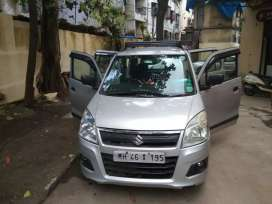license_plate: (112, 150, 165, 164)
